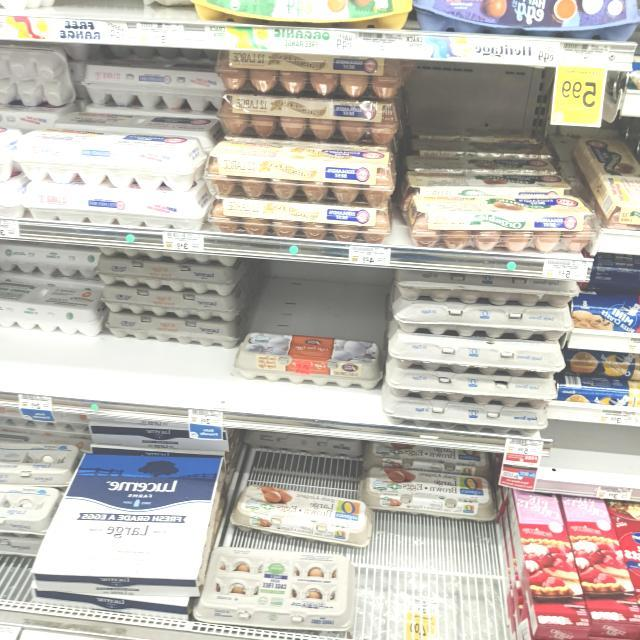egg: (178, 540, 356, 638), (397, 184, 606, 254), (199, 142, 404, 205), (218, 478, 379, 548), (10, 129, 199, 186), (215, 333, 390, 388), (0, 186, 220, 229), (351, 457, 503, 519), (381, 298, 574, 340), (201, 196, 400, 236), (214, 60, 412, 98), (64, 64, 220, 110), (0, 273, 106, 340), (374, 340, 572, 374), (80, 263, 240, 295), (83, 290, 244, 320)
